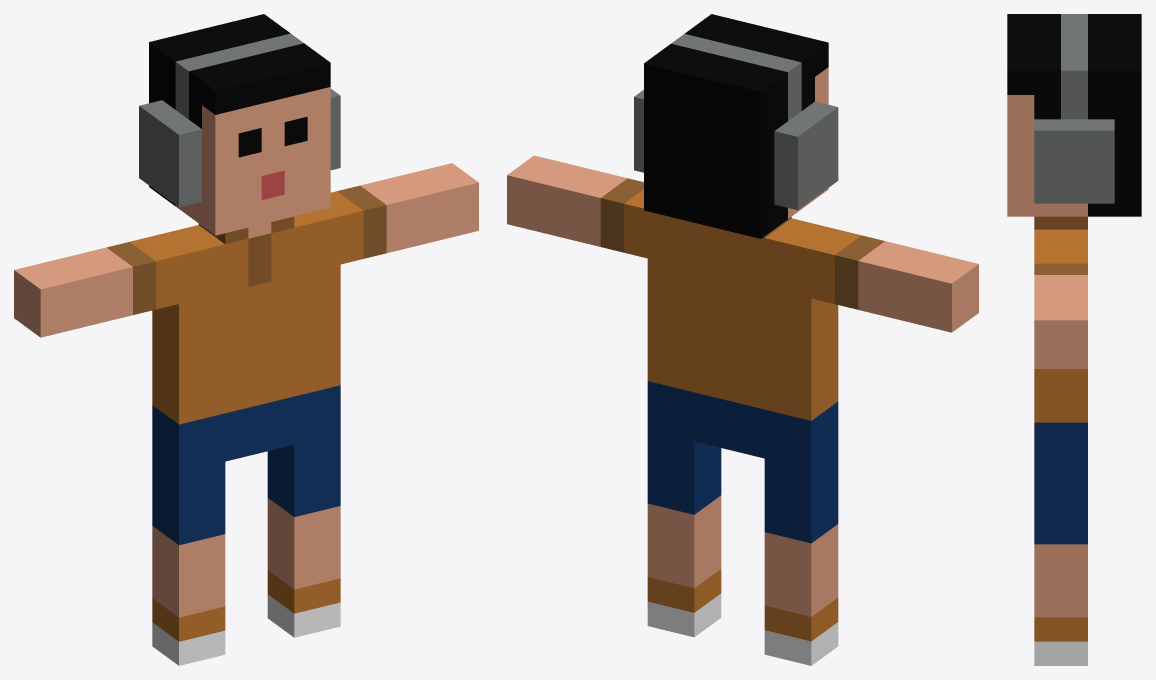
Rendered from Billy.obj.
The picture shows the model from 3 angles, left to right: view 1: azimuth 30°, elevation 25°; view 2: azimuth 150°, elevation 25°; view 3: azimuth 270°, elevation 25°; orthographic projection.
Bounding box in the file's own units: 19 × 24 × 5.
1 material, 1 textured.
